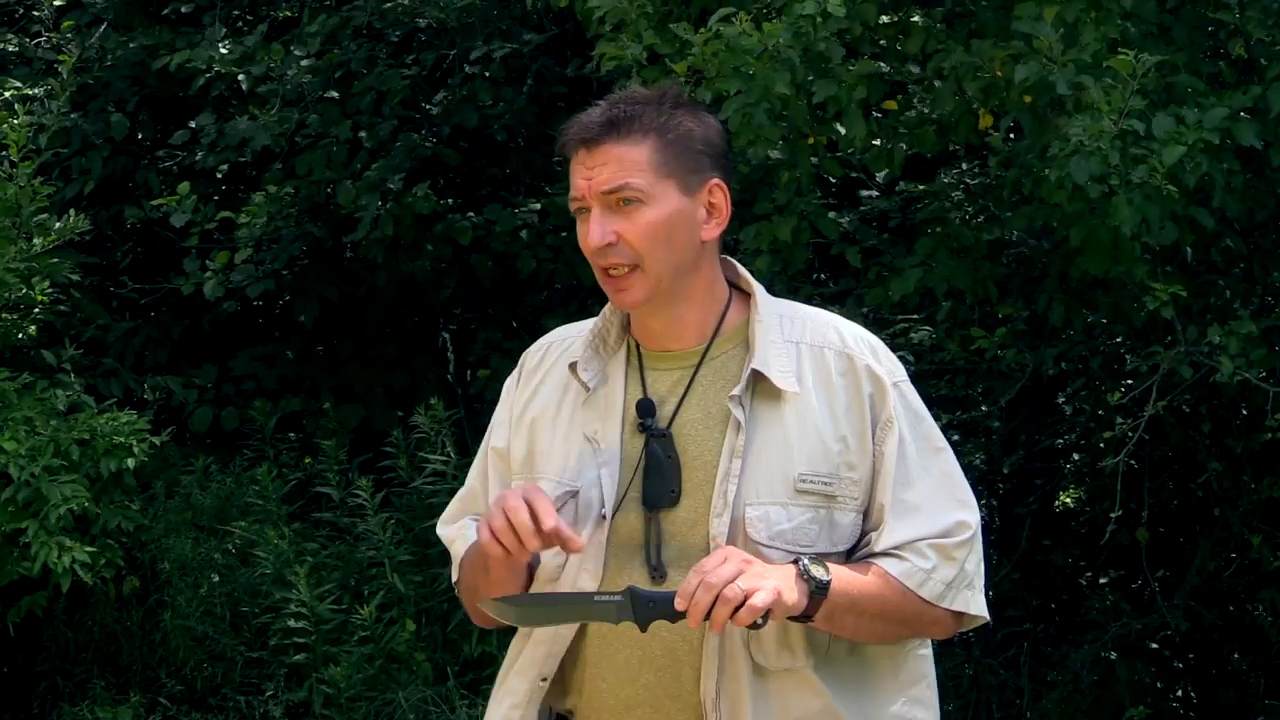knife: (472, 542, 774, 643)
